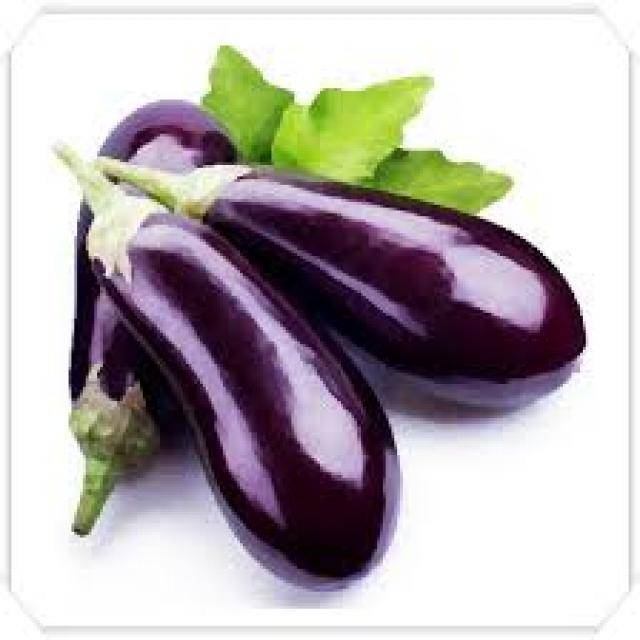eggplant: (49, 140, 418, 606), (92, 128, 594, 430)
